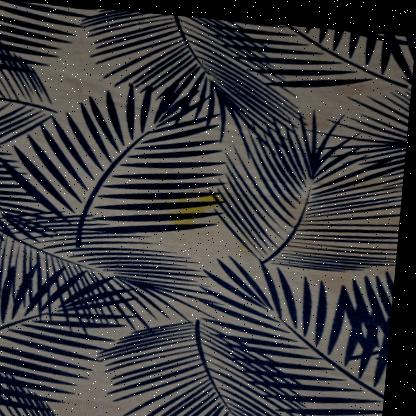spot: (281, 186, 393, 284), (154, 178, 235, 236)
